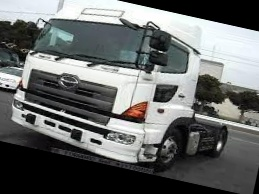car: (0, 59, 24, 94)
